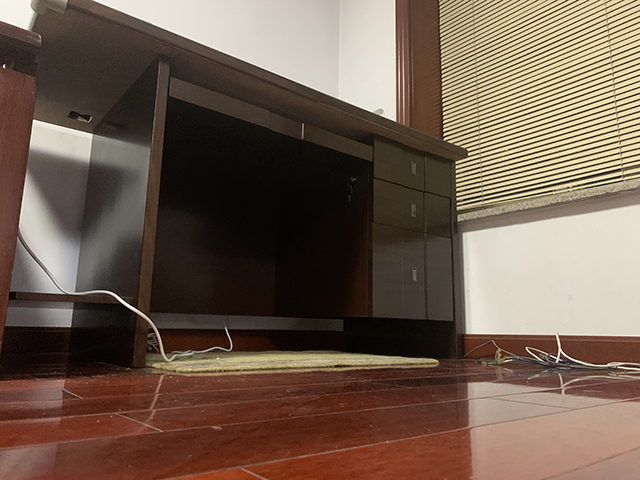carpet: (145, 349, 442, 378)
table: (27, 1, 472, 369)
wire: (17, 227, 234, 363), (463, 331, 640, 373)
